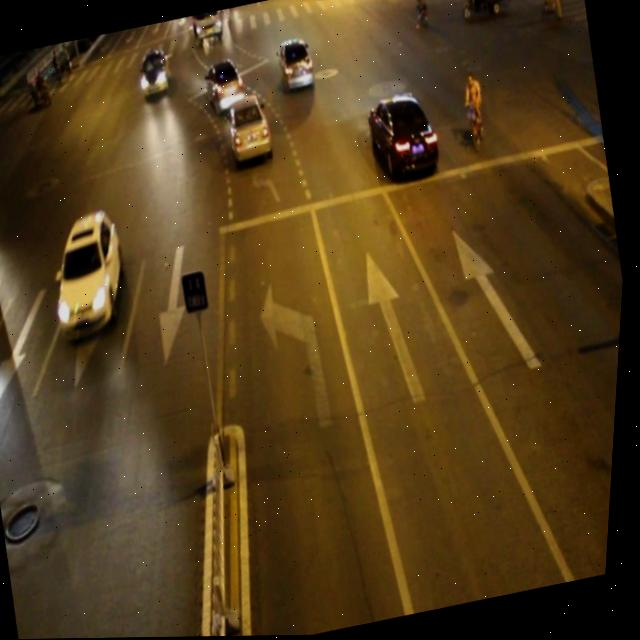car: (42, 207, 138, 340), (361, 87, 446, 185), (222, 93, 282, 168), (199, 57, 253, 122), (273, 35, 321, 97), (0, 235, 8, 341)
